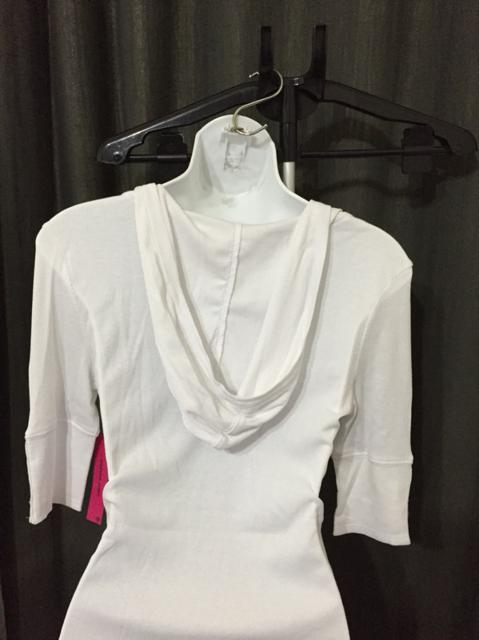Tops: (27, 179, 418, 640)
